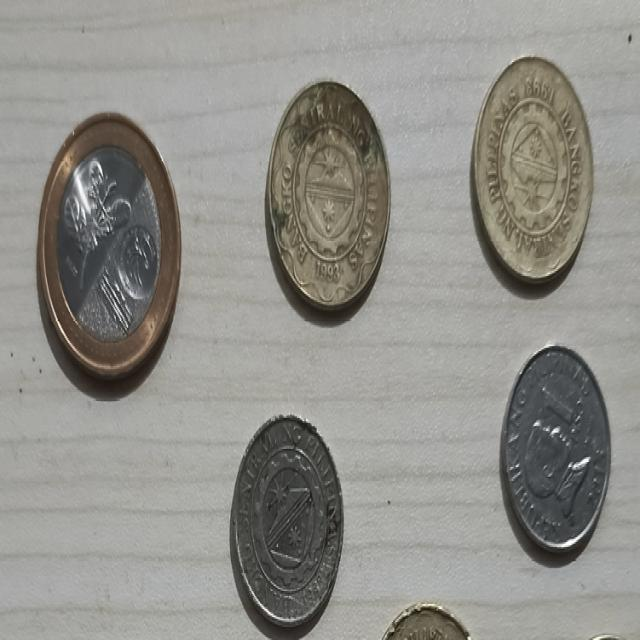1_peso: (232, 416, 343, 624), (501, 346, 609, 550)
20_peso: (38, 113, 180, 377)
5_peso: (268, 83, 389, 307), (472, 57, 592, 279)
